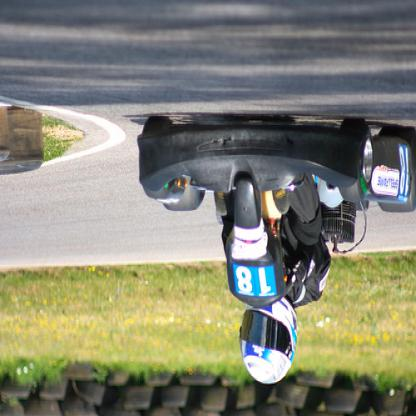person: (222, 173, 333, 386)
